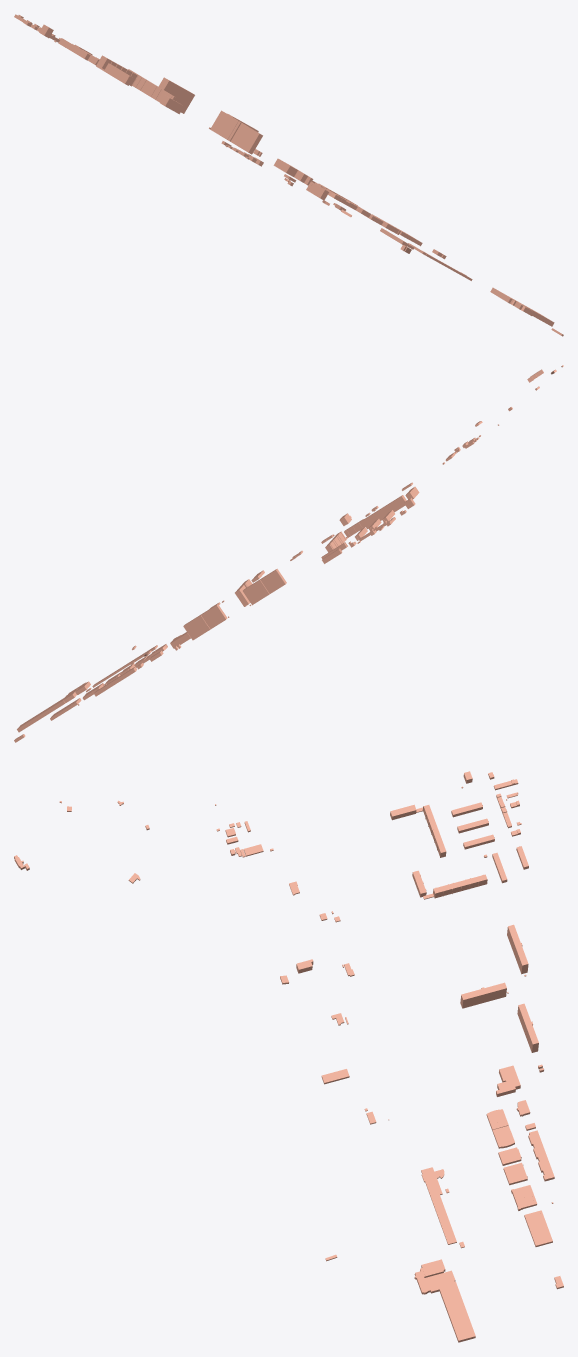
The picture shows the model from 3 angles, top to bottom: view 1: azimuth 30°, elevation 25°; view 2: azimuth 150°, elevation 25°; view 3: azimuth 270°, elevation 25°; orthographic projection. The views are drawn at different scales.
Size of the model in its own units: 1054 by 827 by 1142.
